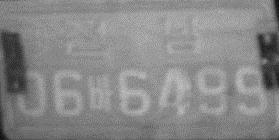0: (15, 70, 48, 117)
4: (156, 68, 191, 117)
6: (51, 68, 85, 118), (116, 68, 150, 117)
9: (195, 64, 231, 117), (233, 64, 268, 118)
바: (86, 73, 114, 112)
영: (19, 19, 59, 61)
전남_D: (63, 15, 206, 59)
